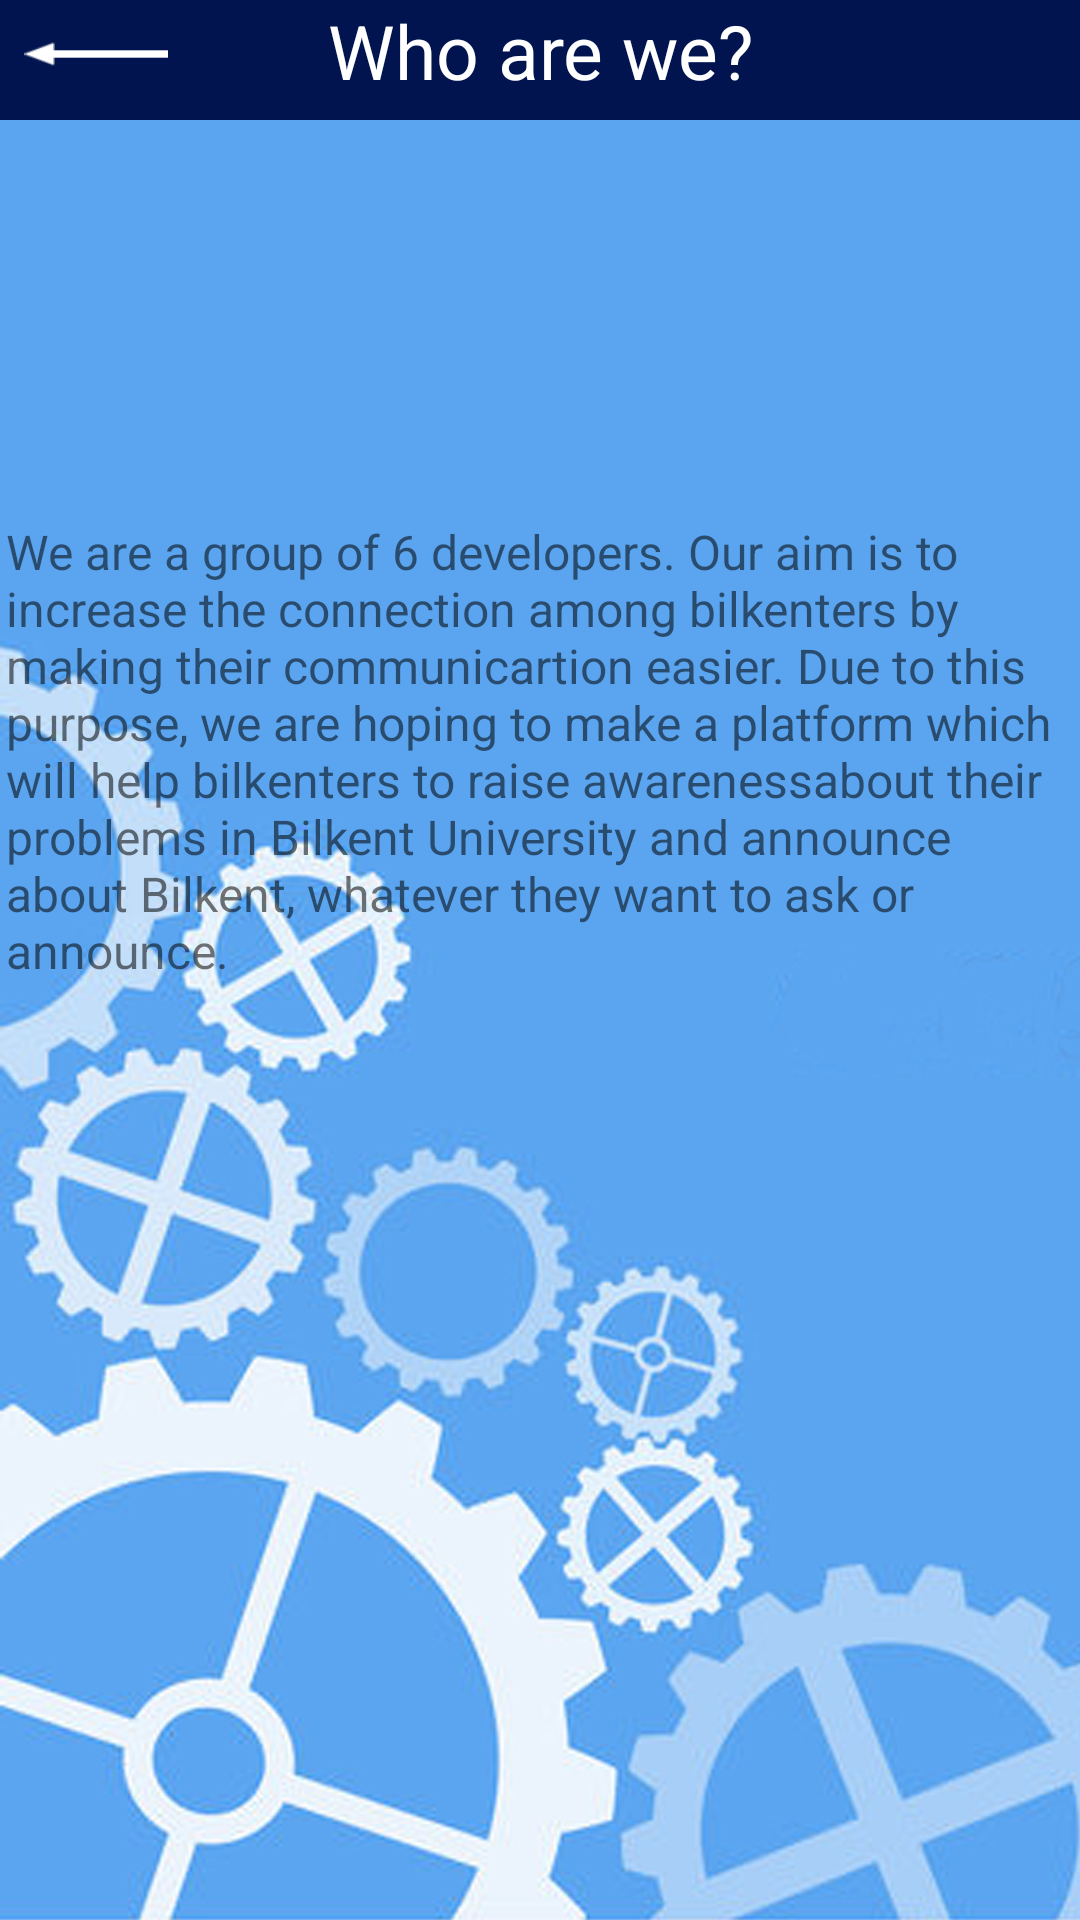

Screen size 1080px x 1920px. Icon name, then its center in pixels as (x=x, y=y):
arrow: (x=96, y=54)
